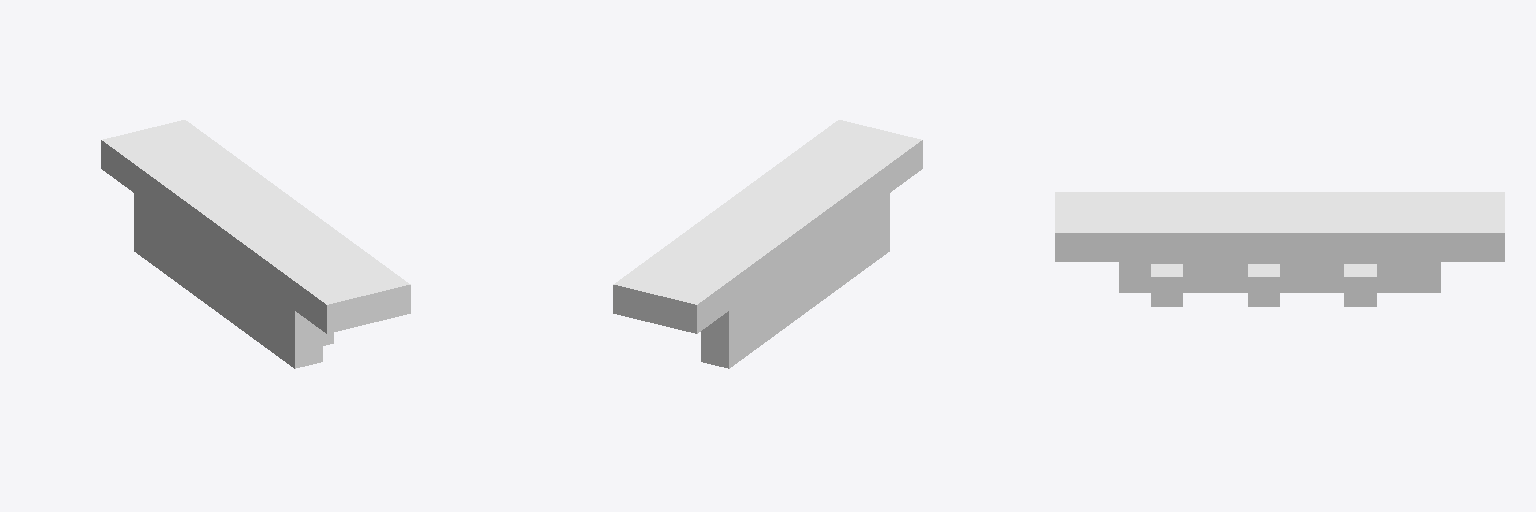
File: shelve2.obj
3 views of the same model, side by side, from view 1: azimuth 30°, elevation 25°; view 2: azimuth 150°, elevation 25°; view 3: azimuth 270°, elevation 25° (orthographic).
Visible parts, largest first — view 1: shelve2; view 2: shelve2; view 3: shelve2.
Boxes of the visible parts, box(x1,y1,x2,y2) form: shelve2: box(101, 120, 410, 368); shelve2: box(613, 120, 922, 368); shelve2: box(1055, 192, 1504, 306).
Size of the model in its own units: 3 by 3 by 14.